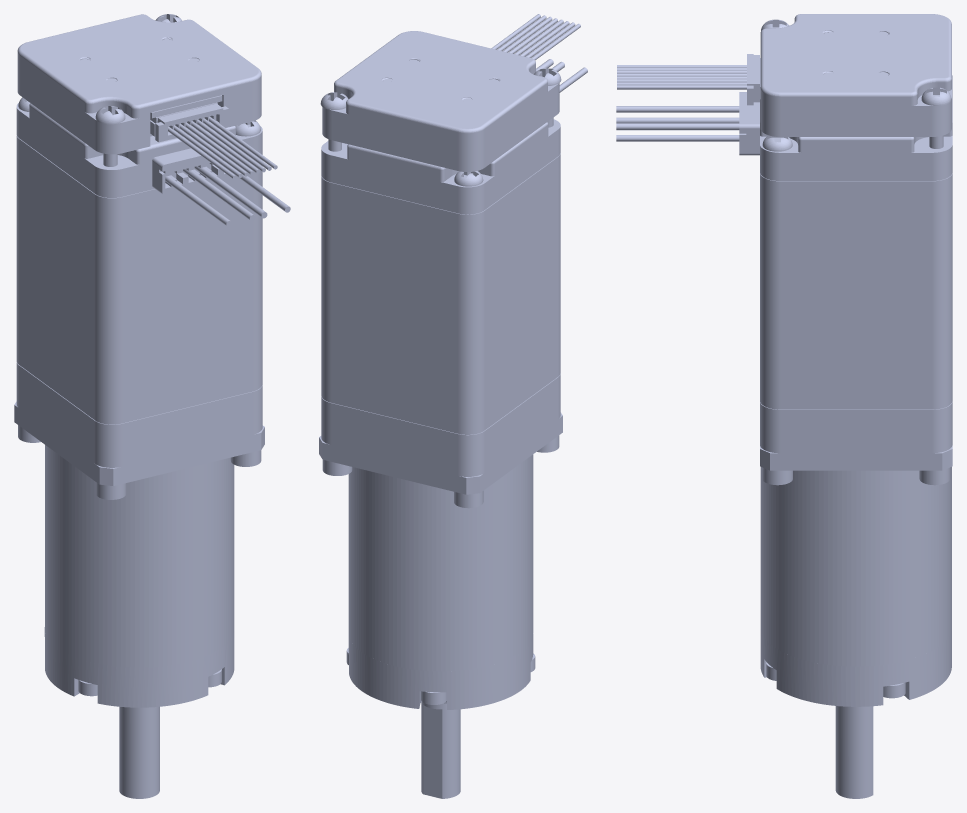
The model's file is buddy_arm-11HS20-0674D-EGS16-J6-Motor.dae.
3 renders of one model, left to right at view 1: azimuth 30°, elevation 25°; view 2: azimuth 150°, elevation 25°; view 3: azimuth 270°, elevation 25°, orthographic. The views are drawn at different scales.
Parts seen in each view (by area): view 1: node4, node6, node5, node7, node2, node1, node0; view 2: node4, node6, node5, node7; view 3: node4, node6, node5, node7, node2, node0, node3, node1.
Boxes of the visible parts, x1,y1,x2,y2 form: node4: (16, 14, 277, 467); node6: (45, 490, 234, 667); node5: (14, 401, 264, 526); node7: (44, 627, 234, 798); node2: (194, 166, 267, 218); node1: (183, 169, 255, 221); node0: (165, 176, 231, 226); node4: (320, 14, 580, 476); node6: (348, 496, 533, 671); node5: (319, 412, 562, 533); node7: (346, 634, 535, 798); node4: (617, 14, 952, 453); node6: (760, 485, 951, 666); node5: (760, 445, 952, 524); node7: (760, 628, 951, 798); node2: (616, 123, 739, 130); node0: (616, 106, 739, 112); node3: (616, 135, 739, 141); node1: (616, 117, 739, 123).
Size of the model in its own units: 0.0282 by 0.0492 by 0.119.
